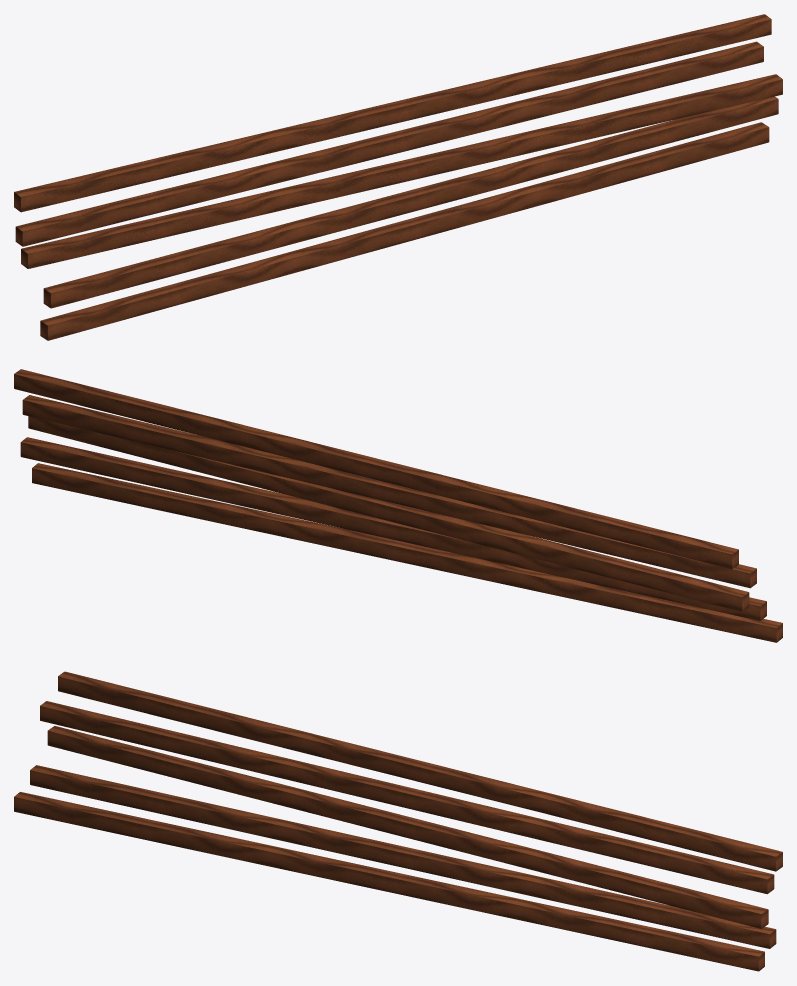
The model's file is COB-MAD-002_anim.glb.
The picture shows the model from 3 angles, top to bottom: view 1: azimuth 30°, elevation 25°; view 2: azimuth 150°, elevation 25°; view 3: azimuth 330°, elevation 25°; orthographic projection. The views are drawn at different scales.
Visible parts, largest first — view 1: COB-MAD-002_anim2, COB-MAD-002_anim4, COB-MAD-002_anim3, COB-MAD-002_anim0, COB-MAD-002_anim1; view 2: COB-MAD-002_anim4, COB-MAD-002_anim0, COB-MAD-002_anim3, COB-MAD-002_anim2, COB-MAD-002_anim1; view 3: COB-MAD-002_anim0, COB-MAD-002_anim1, COB-MAD-002_anim3, COB-MAD-002_anim4, COB-MAD-002_anim2.
Boxes of the visible parts, x1,y1,x2,y2 form: COB-MAD-002_anim2: [21, 74, 782, 268]; COB-MAD-002_anim4: [14, 14, 771, 212]; COB-MAD-002_anim3: [15, 41, 763, 246]; COB-MAD-002_anim0: [40, 122, 769, 340]; COB-MAD-002_anim1: [43, 96, 778, 308]; COB-MAD-002_anim4: [14, 369, 738, 568]; COB-MAD-002_anim0: [32, 463, 782, 642]; COB-MAD-002_anim3: [22, 395, 756, 588]; COB-MAD-002_anim2: [28, 416, 749, 611]; COB-MAD-002_anim1: [20, 437, 766, 620]; COB-MAD-002_anim0: [14, 792, 764, 971]; COB-MAD-002_anim1: [30, 765, 776, 948]; COB-MAD-002_anim3: [40, 701, 774, 894]; COB-MAD-002_anim4: [58, 671, 782, 871]; COB-MAD-002_anim2: [47, 726, 768, 928].
Size of the model in its own units: 3.04 by 0.4441 by 0.3017.
1 material, 1 textured.
